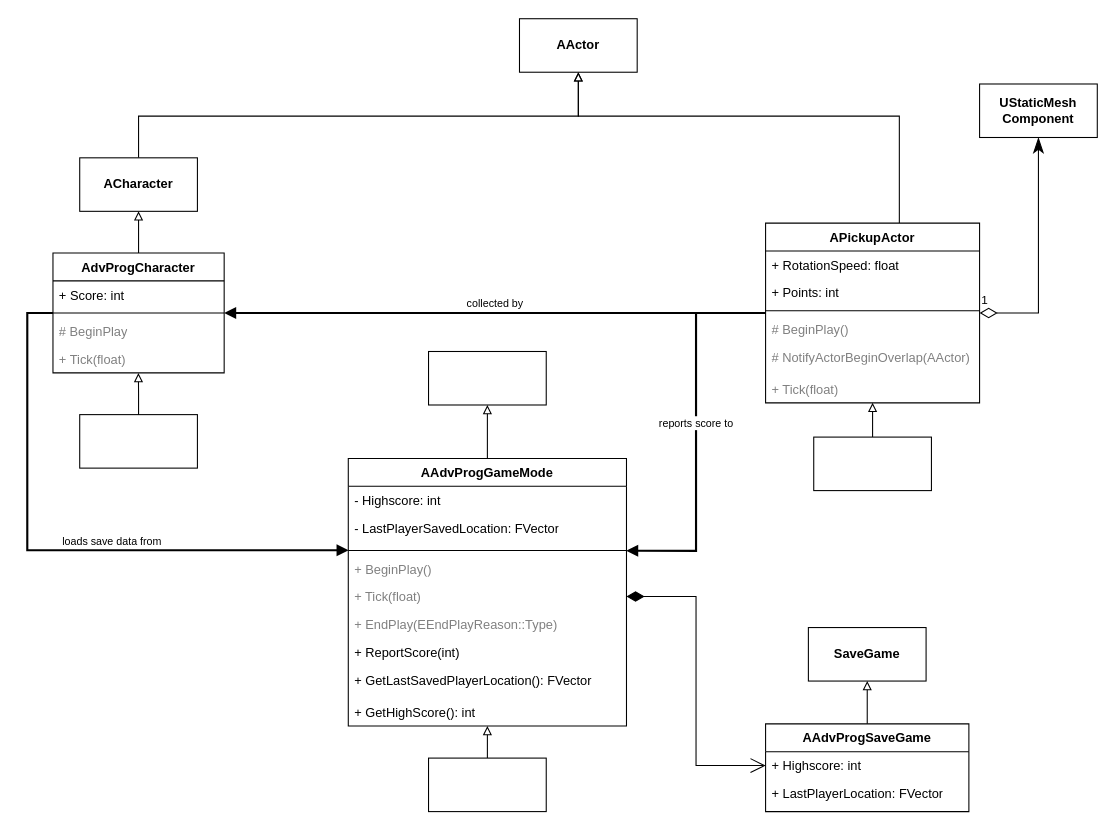
Image size: 1116x834. Some labels were removed from this diagram. Here are the shapes that lost their labels. From the top down, the centre of each, then its label:
the point at 486,377: AGameModeBase
the point at 138,441: BP_ThirdPerson Character
the point at 872,463: BP_PickupActor
the point at 486,784: BP_ThirdPerson GameMode
